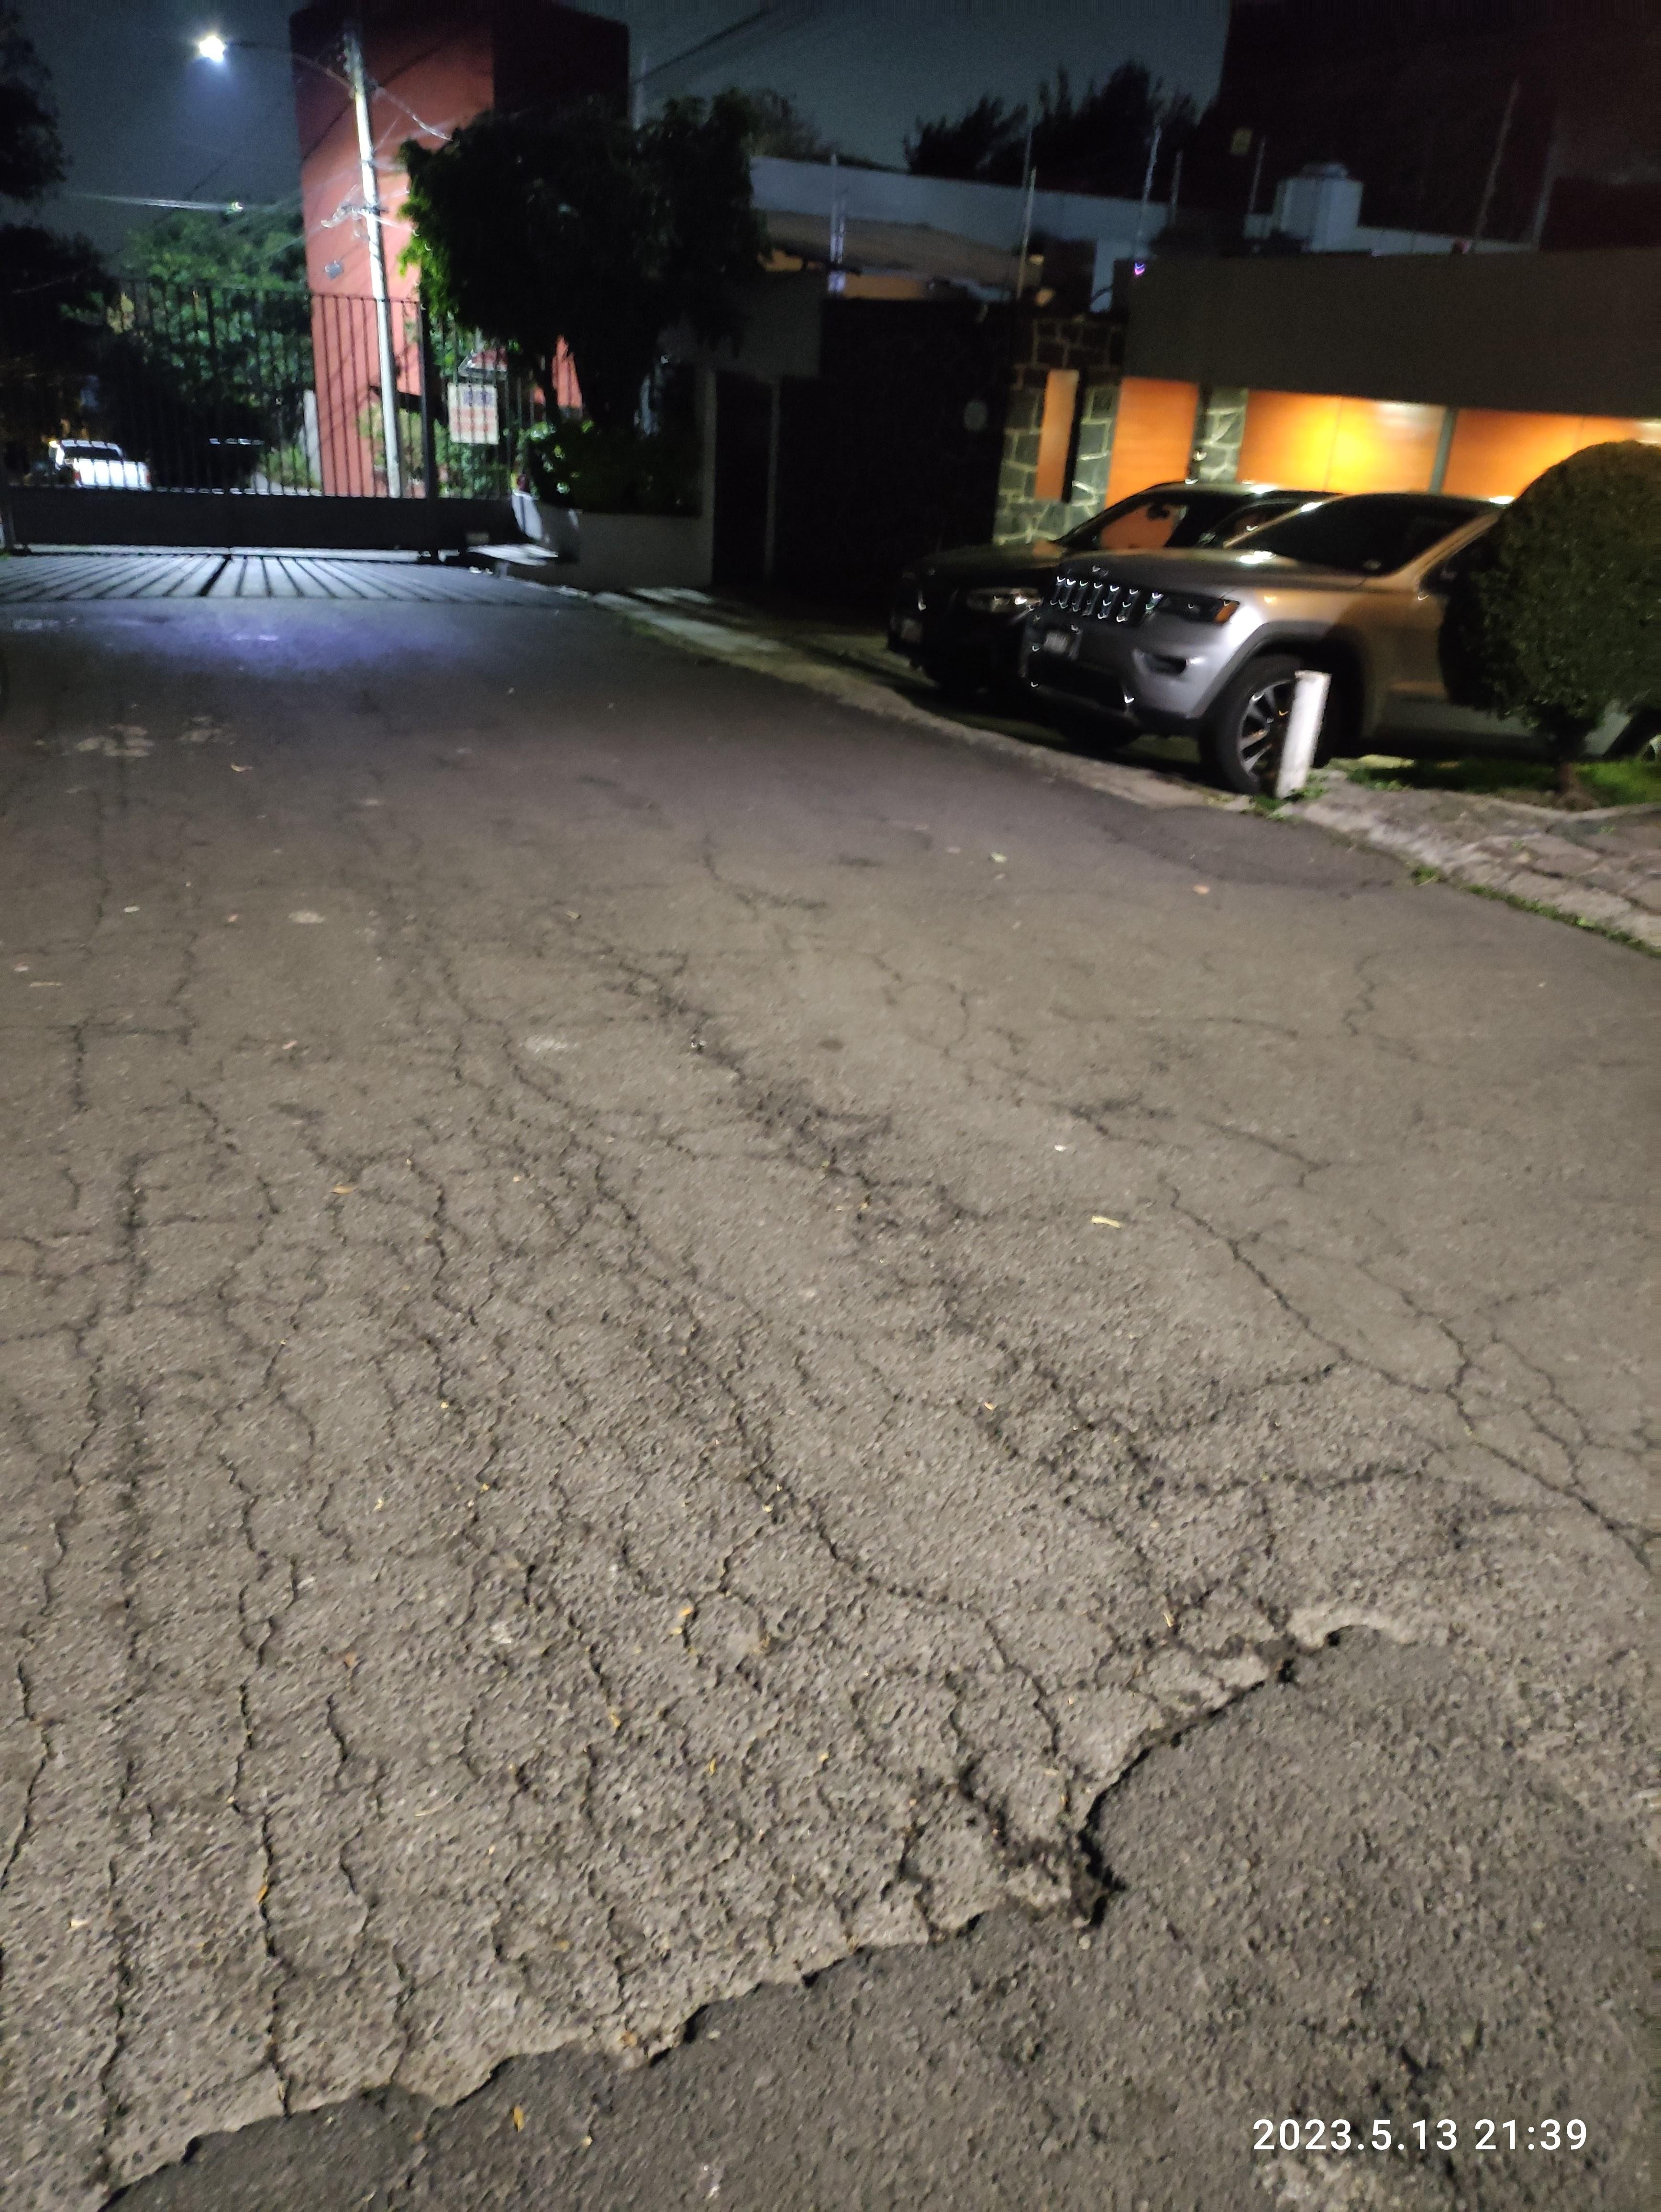alligator-crack: (77, 897, 1377, 2186)
